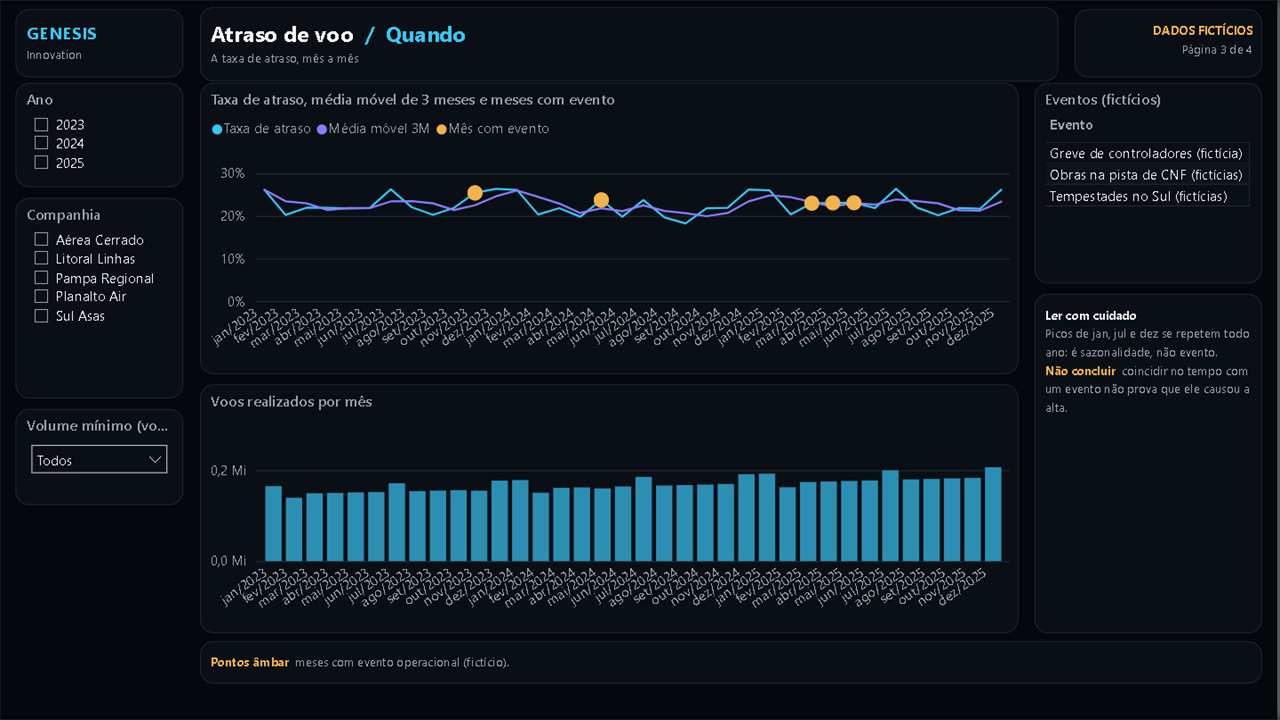

The dashboard page shown, as its layout file describes it:
{"tool":"powerbi","page":{"name":"Quando","canvas":[1280,720],"ordinal":2},"visuals":[{"type":"textbox","box":[16,10,168,68],"z":1},{"type":"textbox","box":[200,8,860,74],"z":2},{"type":"textbox","box":[1076,10,188,68],"z":3},{"type":"slicer","title":"Ano","fields":{"Values":["dim_calendario.ano"]},"box":[16,84,168,104],"z":9},{"type":"slicer","title":"Companhia","fields":{"Values":["dim_companhia.companhia"]},"box":[16,198,168,200],"z":10},{"type":"slicer","title":"Volume mínimo (voos)","fields":{"Values":["Param Volume Minimo.Value"]},"box":[16,408,168,96],"z":11},{"type":"lineChart","title":"Taxa de atraso, média móvel de 3 meses e meses com evento","fields":{"Category":["dim_calendario.mes_ano"],"Y":["_Medidas.Taxa de Atraso 15","_Medidas.Taxa de Atraso (média móvel 3M)","_Medidas.Marcador de Evento (série)"]},"box":[200,84,820,290],"z":20},{"type":"columnChart","title":"Voos realizados por mês","fields":{"Category":["dim_calendario.mes_ano"],"Y":["_Medidas.Voos Realizados"]},"box":[200,384,820,248],"z":21},{"type":"pivotTable","title":"Eventos (fictícios)","fields":{"Rows":["dim_evento.rotulo"]},"box":[1036,84,228,200],"z":22},{"type":"textbox","box":[1036,294,228,338],"z":23},{"type":"textbox","box":[200,640,1064,42],"z":24}]}

Visuals, with their boxes in screenshot pixels (x1, y1, x2, y2), scaled from the page's 1280x720 canvas onto the 1280x720 screenshot:
textbox: 16 10 184 78
textbox: 200 8 1060 82
textbox: 1076 10 1264 78
"Ano" slicer: 16 84 184 188
"Companhia" slicer: 16 198 184 398
"Volume mínimo (voos)" slicer: 16 408 184 504
"Taxa de atraso, média móvel de 3 meses e meses com evento" lineChart: 200 84 1020 374
"Voos realizados por mês" columnChart: 200 384 1020 632
"Eventos (fictícios)" pivotTable: 1036 84 1264 284
textbox: 1036 294 1264 632
textbox: 200 640 1264 682
